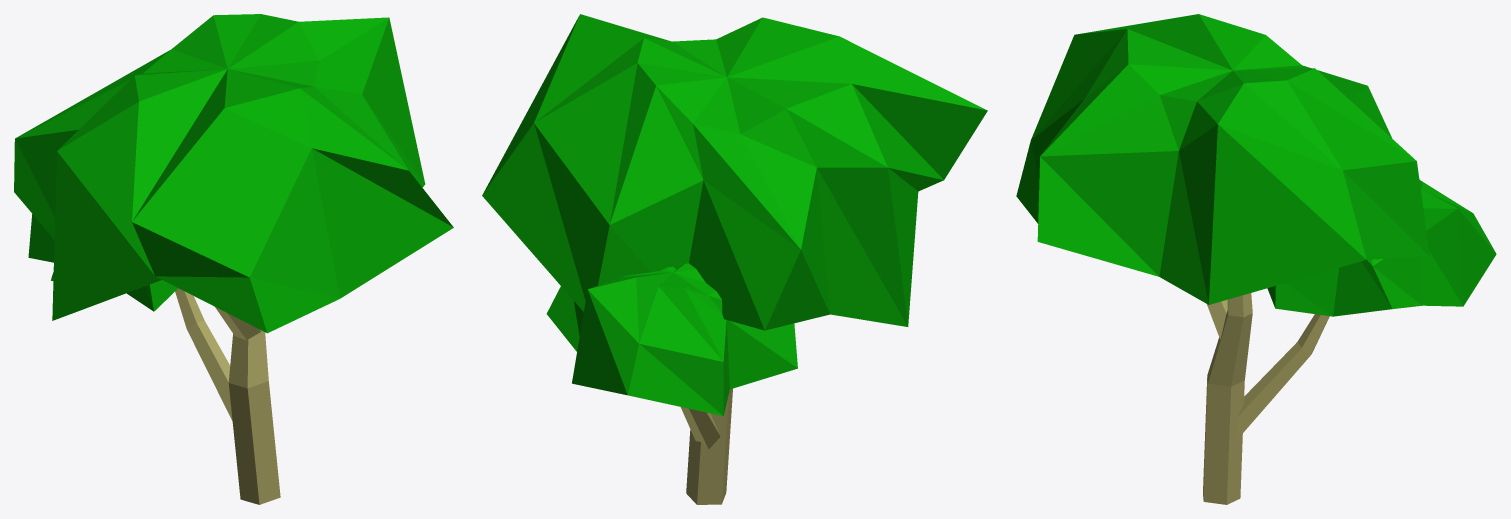
File: tree-low-03.glb
3 views of the same model, side by side, from view 1: azimuth 30°, elevation 25°; view 2: azimuth 150°, elevation 25°; view 3: azimuth 270°, elevation 25° (orthographic). The views are drawn at different scales.
Parts seen in each view (by area): view 1: leaves, trunks; view 2: leaves, trunks; view 3: leaves, trunks.
Part boxes in pixels (left/top/right/bottom): leaves: left=14, top=14, right=453, bottom=333; trunks: left=175, top=288, right=280, bottom=504; leaves: left=482, top=14, right=987, bottom=415; trunks: left=680, top=388, right=732, bottom=504; leaves: left=1016, top=14, right=1496, bottom=316; trunks: left=1203, top=293, right=1329, bottom=504.
Bounding box in the file's own units: 3.43 × 4.11 × 4.06.
